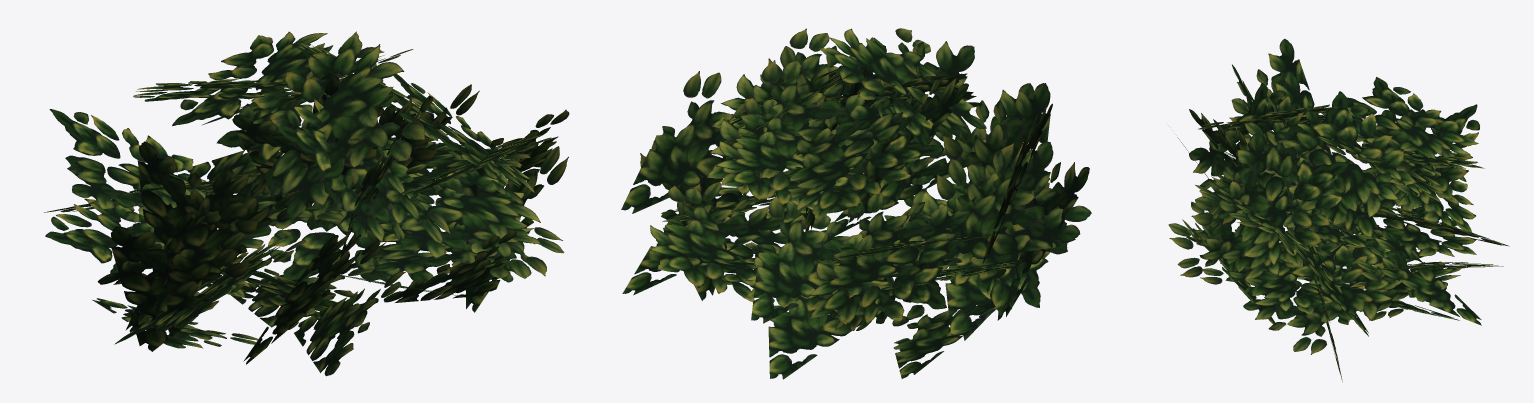
Rendered from UltraLowBush.fbx.
The picture shows the model from 3 angles, left to right: view 1: azimuth 30°, elevation 25°; view 2: azimuth 150°, elevation 25°; view 3: azimuth 270°, elevation 25°; orthographic projection. The views are drawn at different scales.
Visible parts, largest first — view 1: bush.050; view 2: bush.050; view 3: bush.050.
Part boxes in pixels (x1,y1,x2,y2): bush.050: (44,31,569,376); bush.050: (621,28,1091,379); bush.050: (1168,39,1509,381).
Bounding box in the file's own units: 330 × 200 × 266.
1 material, 1 textured.
